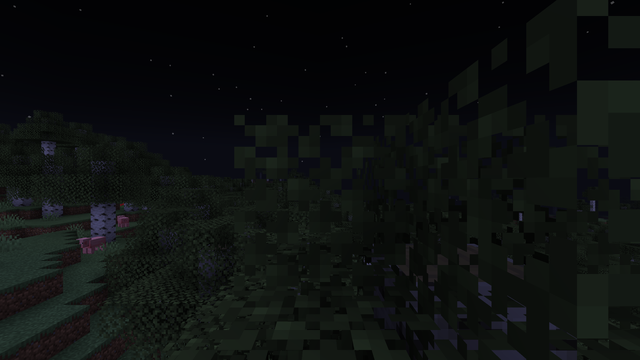cochons: (80, 236, 106, 253), (117, 216, 131, 226)
